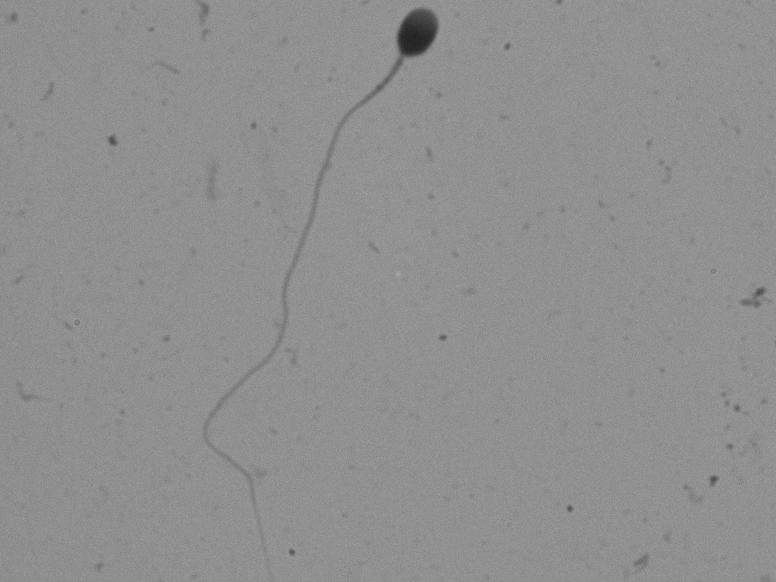Normal: (157, 3, 470, 570)
